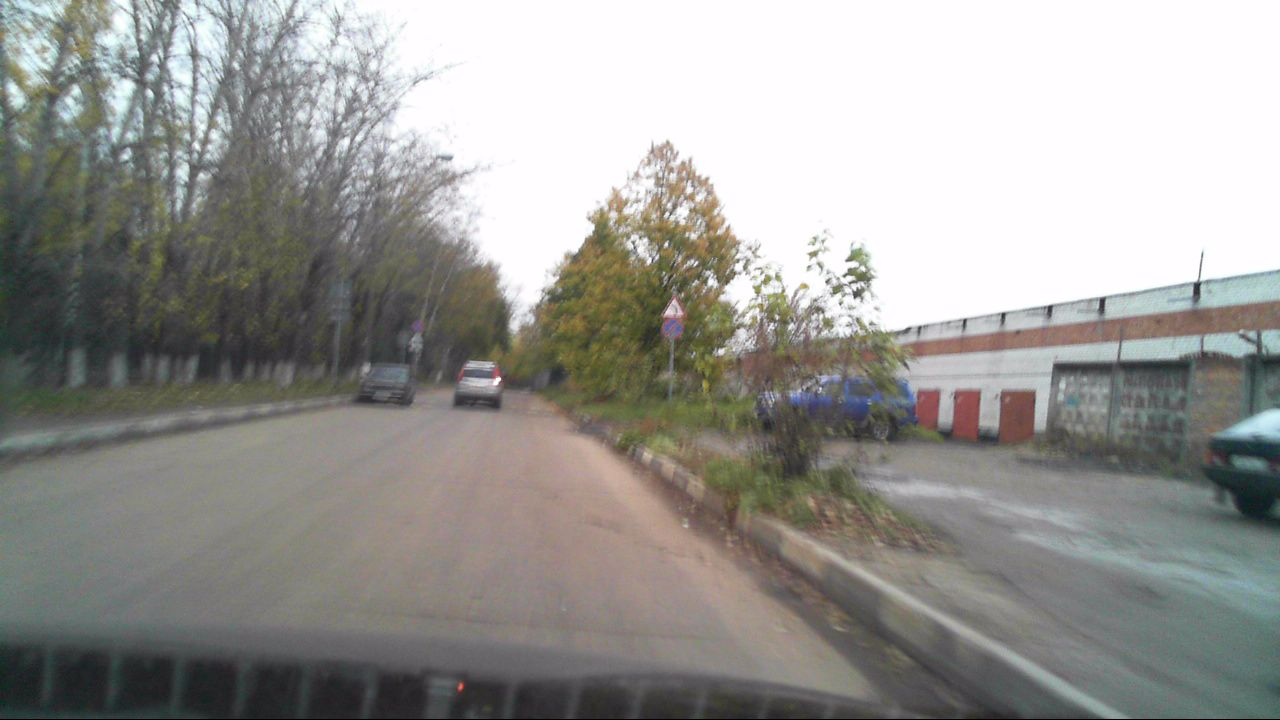No Parking: (661, 319, 684, 339)
